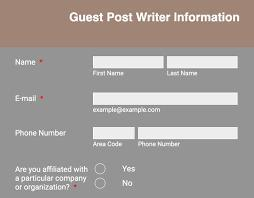input: (94, 93, 240, 106), (139, 128, 239, 140), (94, 57, 165, 69), (168, 57, 239, 69), (94, 128, 136, 140)
label: (69, 12, 241, 24), (15, 166, 90, 192), (93, 107, 162, 115), (15, 130, 69, 138), (16, 94, 45, 104), (138, 142, 181, 148), (16, 58, 44, 67), (94, 71, 126, 78), (93, 142, 124, 149), (168, 71, 199, 78), (122, 164, 137, 173), (123, 180, 134, 188)
radio: (95, 163, 107, 176), (95, 178, 108, 190)
